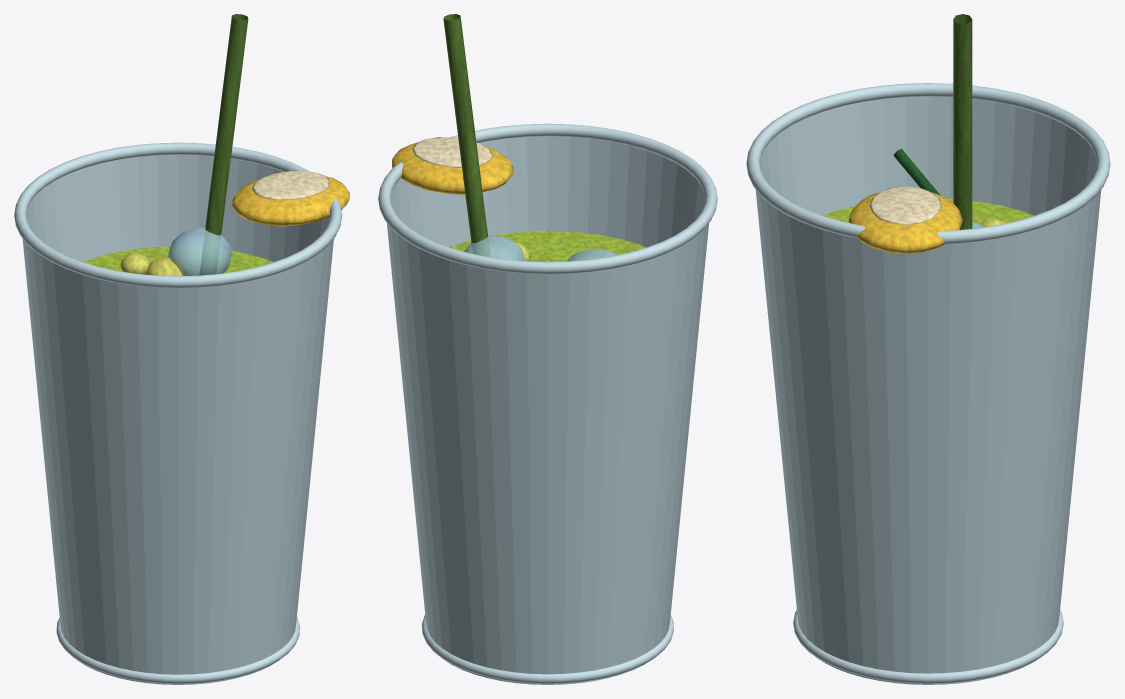
File: lulada.glb
The picture shows the model from 3 angles, left to right: view 1: azimuth 30°, elevation 25°; view 2: azimuth 150°, elevation 25°; view 3: azimuth 270°, elevation 25°; orthographic projection. The views are drawn at different scales.
Visible parts, largest first — view 1: glass, leafLight, lemon, ice, cream, lulo, luloPulp; view 2: glass, leafLight, lemon, lulo, cream, ice; view 3: glass, leafLight, lemon, cream, lulo, leaf.
Part boxes in pixels (x1,y1,x2,y2): glass: (14,142,342,684); leafLight: (199,14,248,274); lemon: (232,176,349,226); ice: (168,227,231,275); cream: (252,170,329,199); lulo: (83,246,273,272); luloPulp: (120,253,186,276); glass: (378,123,717,684); leafLight: (443,14,490,256); lemon: (392,142,513,194); lulo: (449,231,646,261); cream: (412,137,493,167); ice: (464,235,617,261); glass: (746,83,1110,684); leafLight: (953,14,972,229); lemon: (848,192,962,253); cream: (869,186,941,224); lulo: (823,198,1033,224); leaf: (894,149,940,195).
Bounding box in the file's own units: 0.2009 × 0.3787 × 0.191.
Materials: 8 (8 with a texture image).
